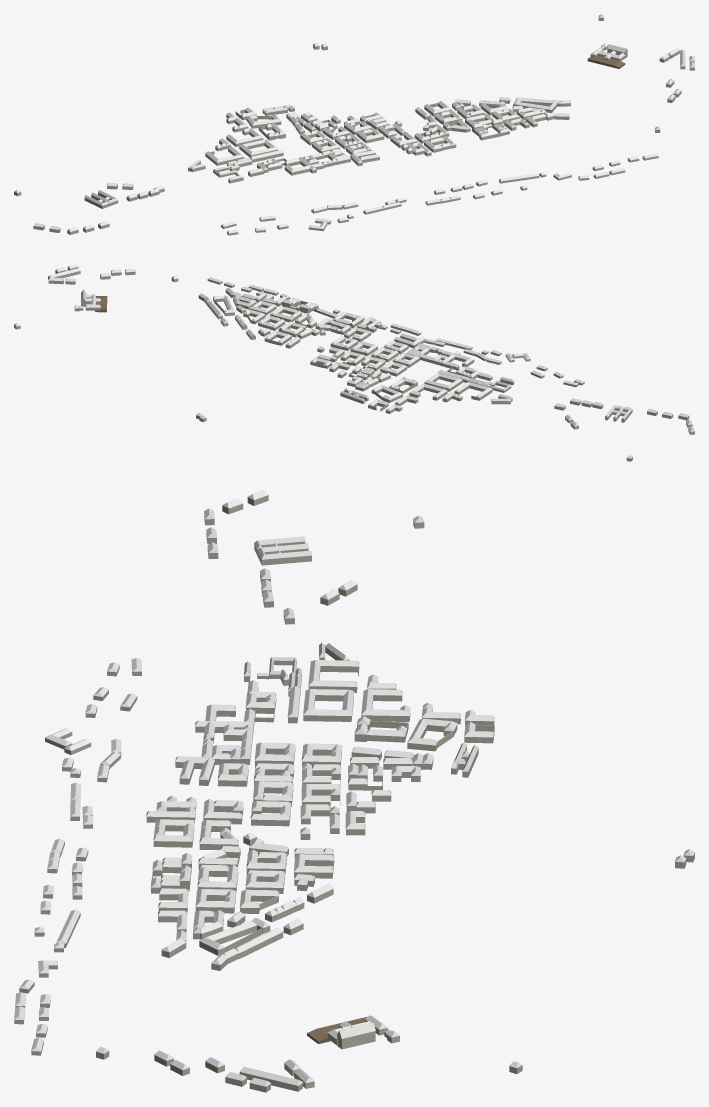
The model's file is SingleAllHouses.fbx.
The picture shows the model from 3 angles, top to bottom: view 1: azimuth 30°, elevation 25°; view 2: azimuth 150°, elevation 25°; view 3: azimuth 270°, elevation 25°; orthographic projection. The views are drawn at different scales.
Visible parts, largest first — view 1: SingleCity, SingleOrilla, SingleExteriorWallRoof1, SingleExteriorWallRoof2; view 2: SingleCity, SingleOrilla, SingleExteriorWallRoof1, SingleExteriorWallRoof2; view 3: SingleCity, SingleOrilla, SingleExteriorWallRoof1, SingleExteriorWallRoof2.
Boxes of the visible parts, x1,y1,x2,y2 form: SingleCity: [188, 97, 570, 183]; SingleOrilla: [221, 153, 658, 235]; SingleExteriorWallRoof1: [313, 14, 694, 132]; SingleExteriorWallRoof2: [14, 182, 164, 234]; SingleCity: [198, 287, 514, 413]; SingleOrilla: [207, 277, 584, 387]; SingleExteriorWallRoof1: [14, 264, 206, 422]; SingleExteriorWallRoof2: [554, 398, 694, 461]; SingleCity: [146, 642, 494, 970]; SingleOrilla: [14, 658, 141, 1055]; SingleExteriorWallRoof1: [96, 849, 694, 1092]; SingleExteriorWallRoof2: [204, 490, 424, 624].
Size of the model in its own units: 162436 by 9509 by 76948.
